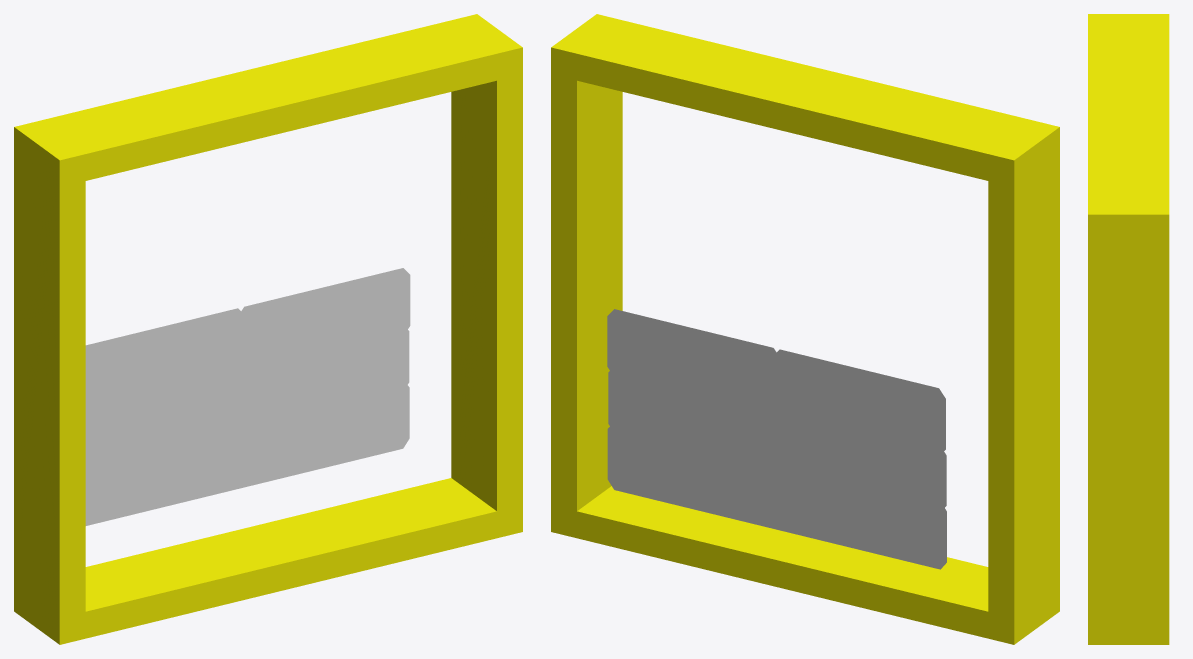
Rendered from highlights.fbx.
3 renders of one model, left to right at view 1: azimuth 30°, elevation 25°; view 2: azimuth 150°, elevation 25°; view 3: azimuth 270°, elevation 25°, orthographic. The views are drawn at different scales.
Parts seen in each view (by area): view 1: Component_Highlight, Button5Highlight, Button1Highlight, Button2Highlight, Button3Highlight, Button4Highlight; view 2: Component_Highlight, Button5Highlight, Button3Highlight, Button4Highlight, Button1Highlight, Button2Highlight; view 3: Component_Highlight.
Boxes of the visible parts, x1,y1,x2,y2 form: Component_Highlight: (14,14,522,644); Button5Highlight: (85,380,409,525); Button1Highlight: (237,268,410,374); Button2Highlight: (85,308,244,413); Button3Highlight: (236,330,409,430); Button4Highlight: (85,373,243,457); Component_Highlight: (551,14,1059,644); Button5Highlight: (607,426,946,569); Button3Highlight: (608,365,780,472); Button4Highlight: (773,406,946,511); Button1Highlight: (607,309,780,403); Button2Highlight: (773,349,945,450); Component_Highlight: (1088,14,1169,644).
Bounding box in the file's own units: 2239 × 2239 × 428.
